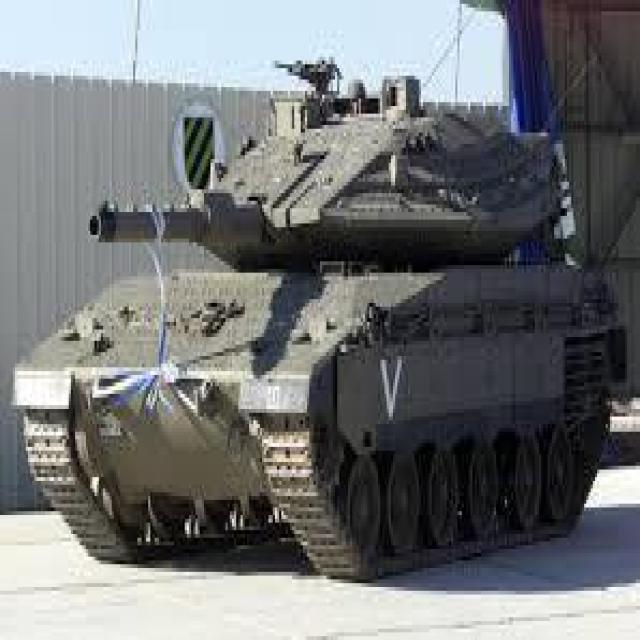Tanks: (6, 44, 636, 600)
